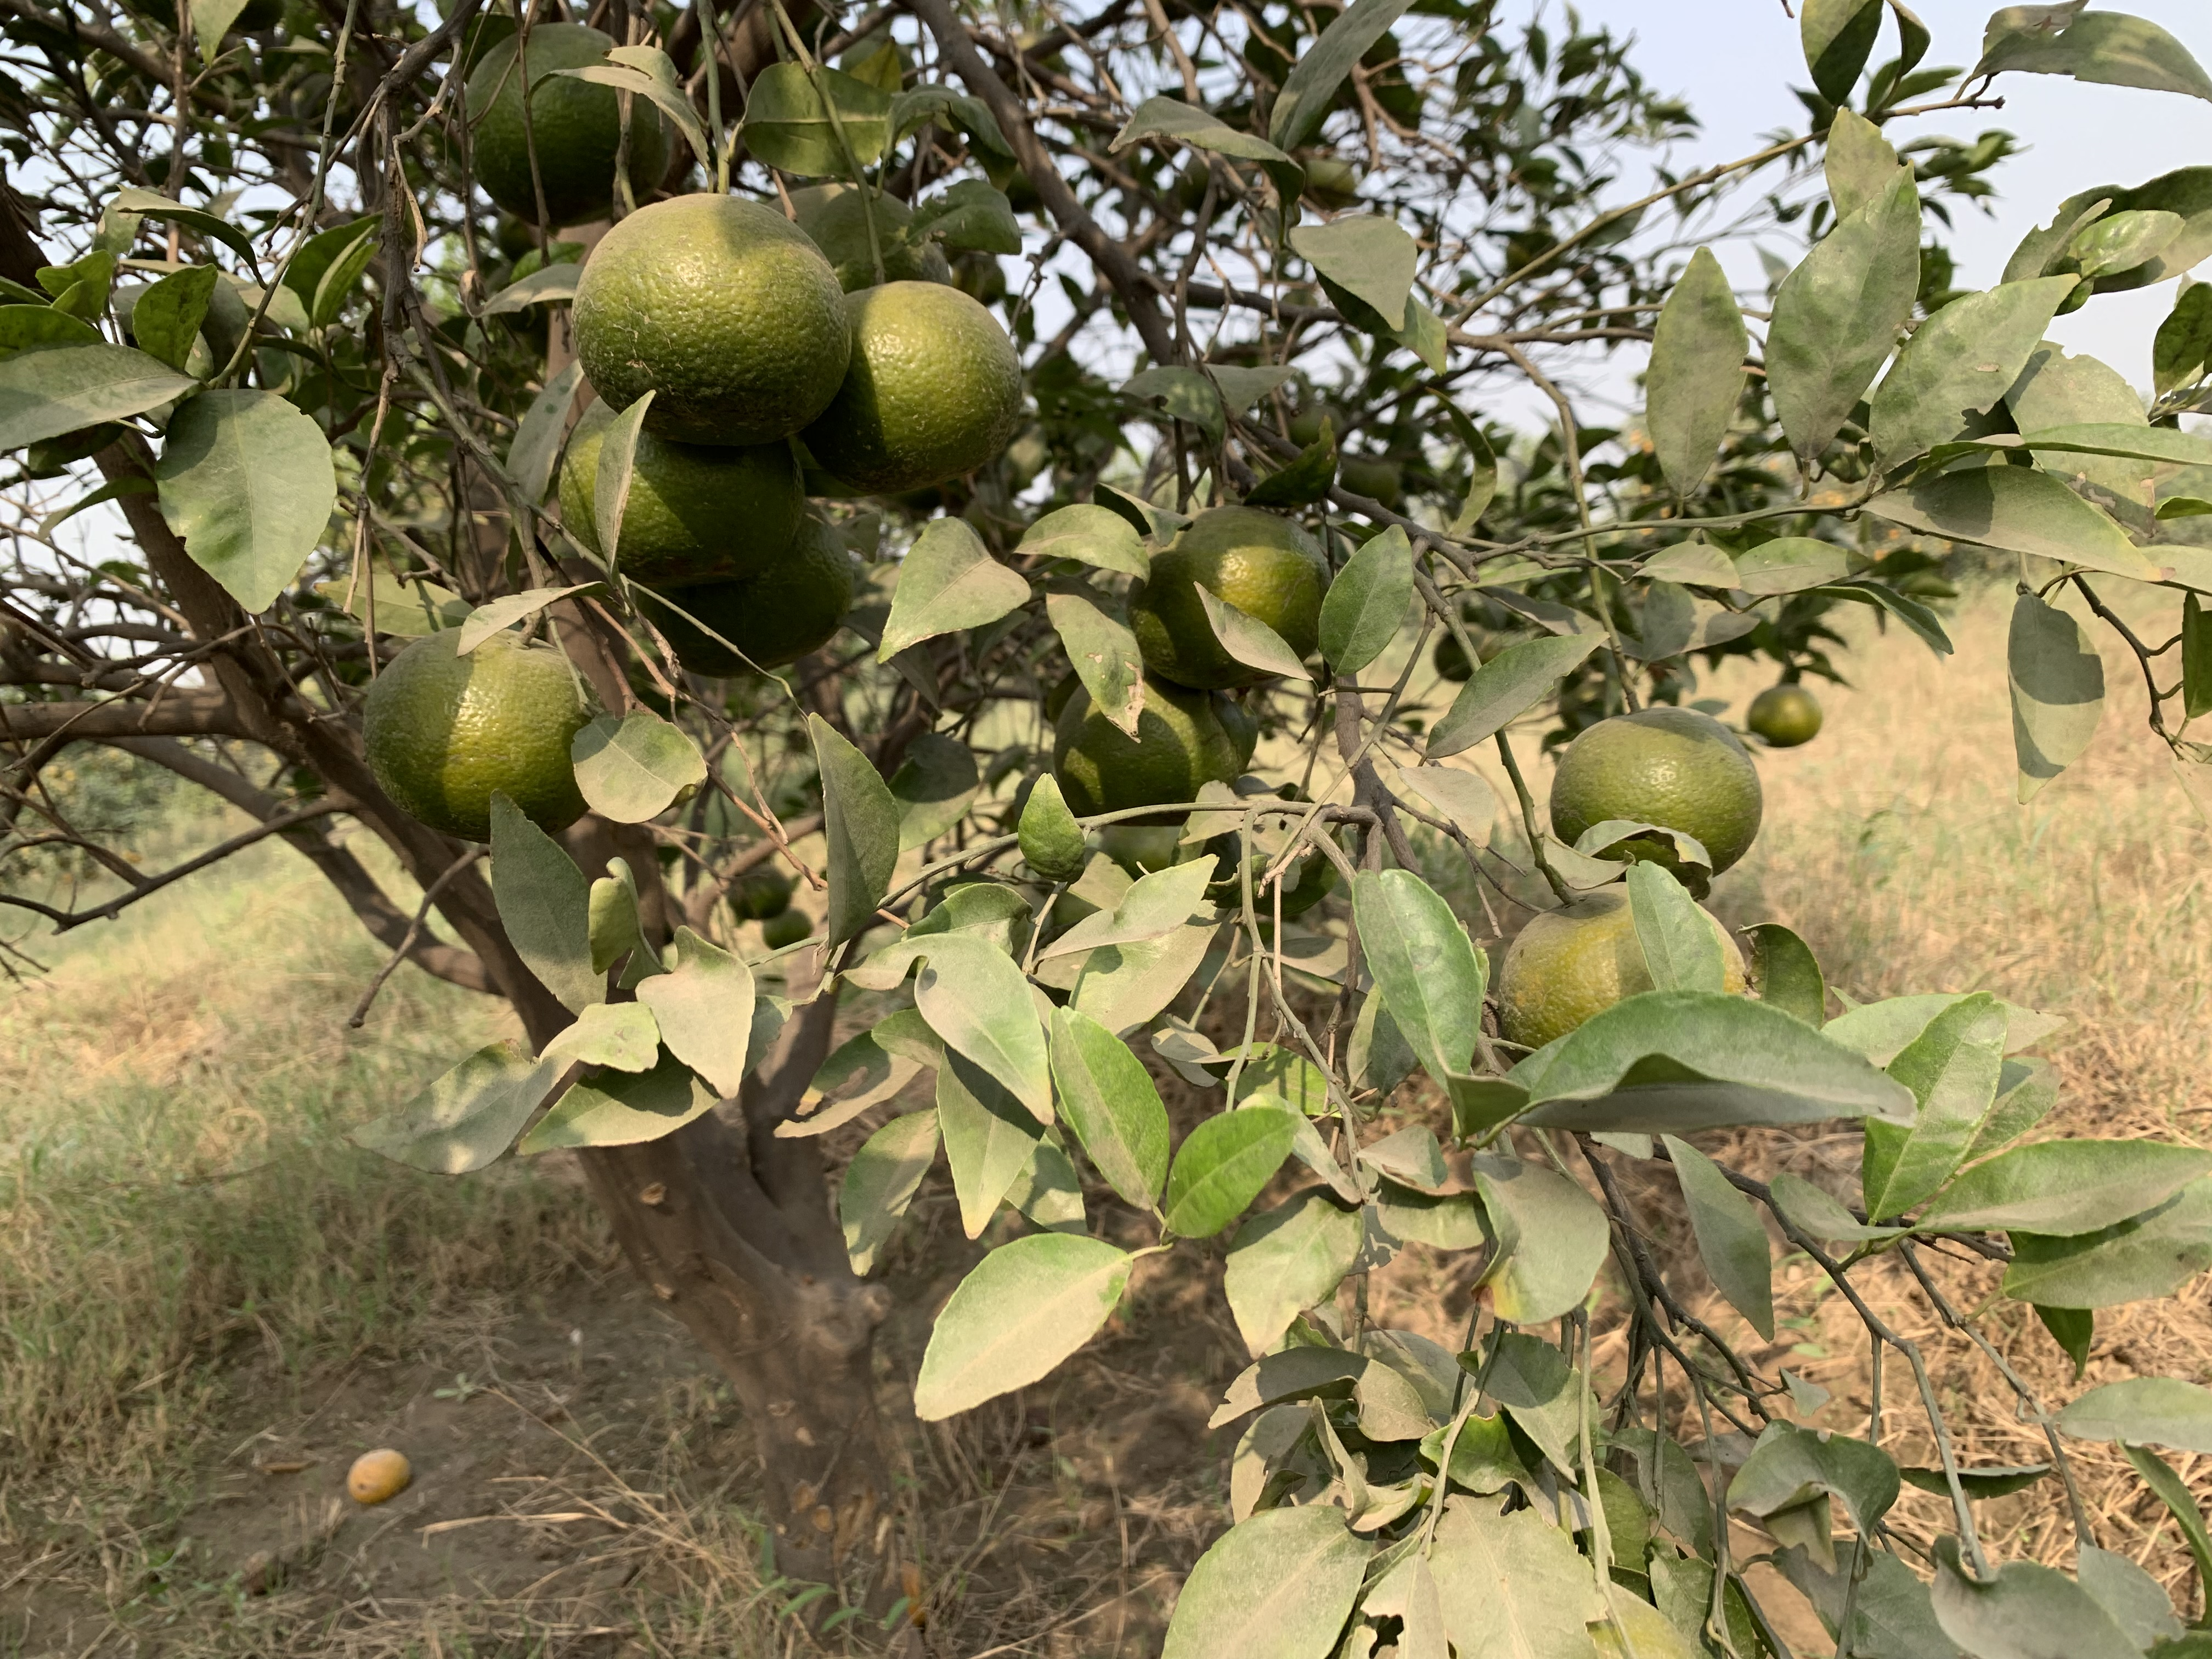orange: (573, 192, 852, 444), (366, 624, 606, 842), (559, 387, 806, 586), (799, 275, 1026, 491), (1498, 884, 1773, 1060), (458, 23, 679, 230), (1127, 502, 1336, 688), (636, 509, 852, 678), (1550, 706, 1763, 875), (1052, 669, 1245, 826), (1205, 791, 1343, 920), (1749, 687, 1824, 748), (840, 33, 920, 89), (291, 75, 357, 138), (1339, 453, 1402, 509), (1177, 150, 1235, 209), (732, 863, 787, 920), (1305, 155, 1357, 211), (951, 251, 1005, 303), (1433, 631, 1489, 681), (1289, 404, 1343, 455), (1505, 232, 1559, 281), (1007, 162, 1042, 220), (763, 910, 813, 945), (1278, 289, 1318, 328)
